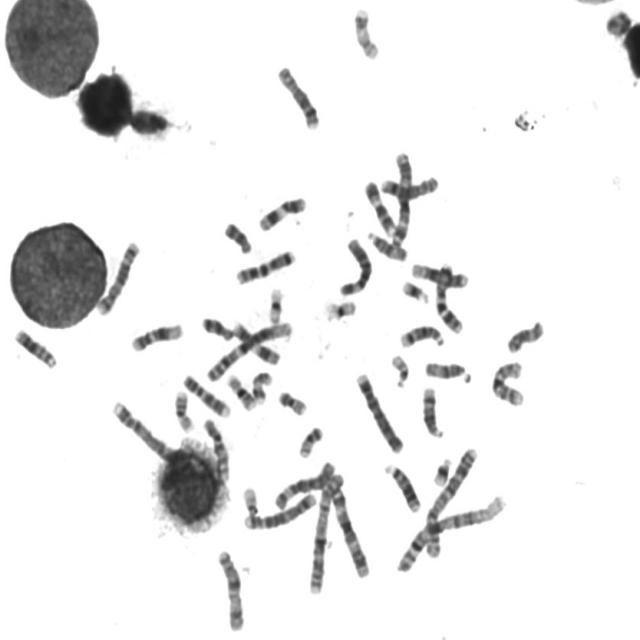A1: (393, 490, 509, 575), (203, 317, 295, 383)
A2: (420, 442, 480, 560), (306, 469, 346, 596)
A3: (320, 472, 371, 580), (388, 148, 414, 248)
B4: (110, 394, 183, 471), (352, 368, 406, 454)
B5: (93, 236, 142, 318), (241, 488, 318, 532)
C10: (200, 414, 232, 484), (488, 357, 526, 408)
C11: (230, 317, 282, 367), (255, 192, 308, 234)
C12: (126, 318, 186, 353), (409, 258, 470, 289)
C6: (270, 458, 337, 512), (336, 234, 374, 298)
C7: (232, 245, 298, 286), (432, 260, 465, 334)
C8: (274, 61, 321, 131), (378, 171, 440, 200)
C9: (180, 370, 232, 419), (360, 176, 398, 237)
D13: (381, 459, 423, 514), (12, 324, 58, 370)
D14: (418, 382, 446, 440), (396, 320, 446, 350)
D15: (365, 226, 409, 262), (422, 356, 473, 384)
E16: (223, 370, 258, 412), (171, 386, 196, 433)
E17: (351, 3, 381, 61), (249, 368, 274, 406)
E18: (504, 316, 546, 355), (220, 218, 254, 255)
F19: (321, 296, 358, 322), (264, 284, 284, 326)
F20: (296, 422, 326, 460), (275, 387, 309, 417)
G21: (398, 276, 432, 305), (430, 452, 454, 487)
G22: (388, 350, 412, 389), (239, 482, 261, 518)
X: (214, 546, 246, 632)
